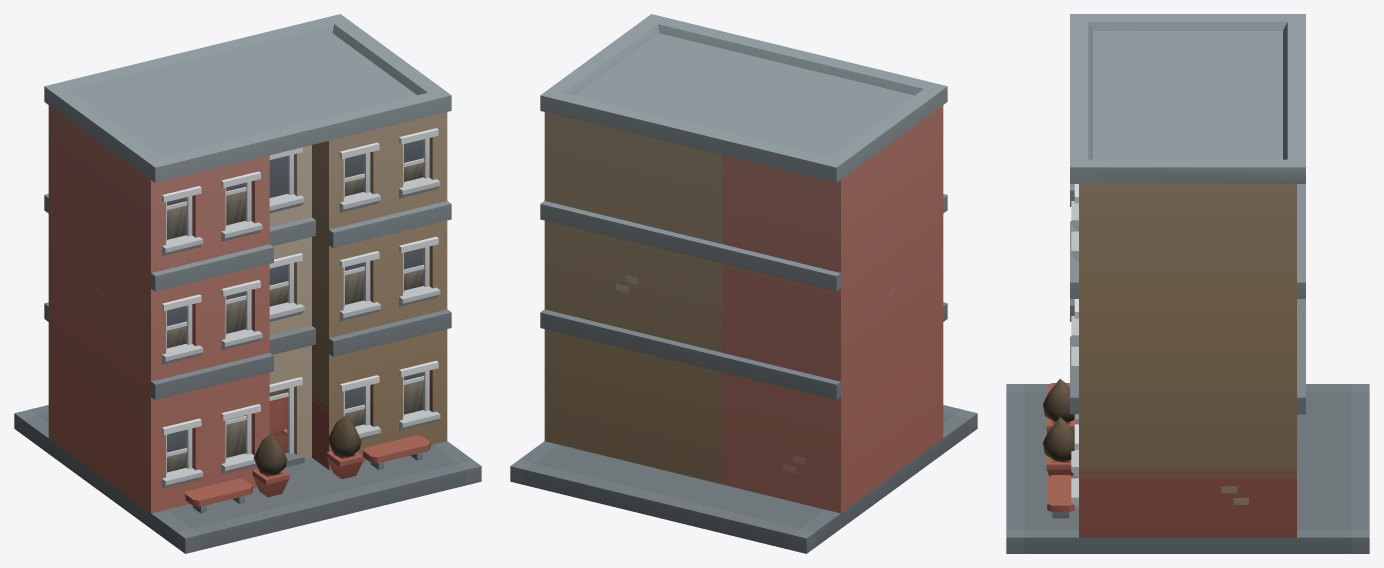
Rendered from london-walkup-b.glb.
The picture shows the model from 3 angles, left to right: view 1: azimuth 30°, elevation 25°; view 2: azimuth 150°, elevation 25°; view 3: azimuth 270°, elevation 25°; orthographic projection. The views are drawn at different scales.
Parts seen in each view (by area): view 1: building_F; view 2: building_F; view 3: building_F.
Boxes of the visible parts, <box> form: building_F: <box>14,14,481,553</box>; building_F: <box>510,14,977,553</box>; building_F: <box>1006,14,1369,553</box>.
Bounding box in the file's own units: 2.01 × 2.35 × 2.
1 material, 1 textured.
